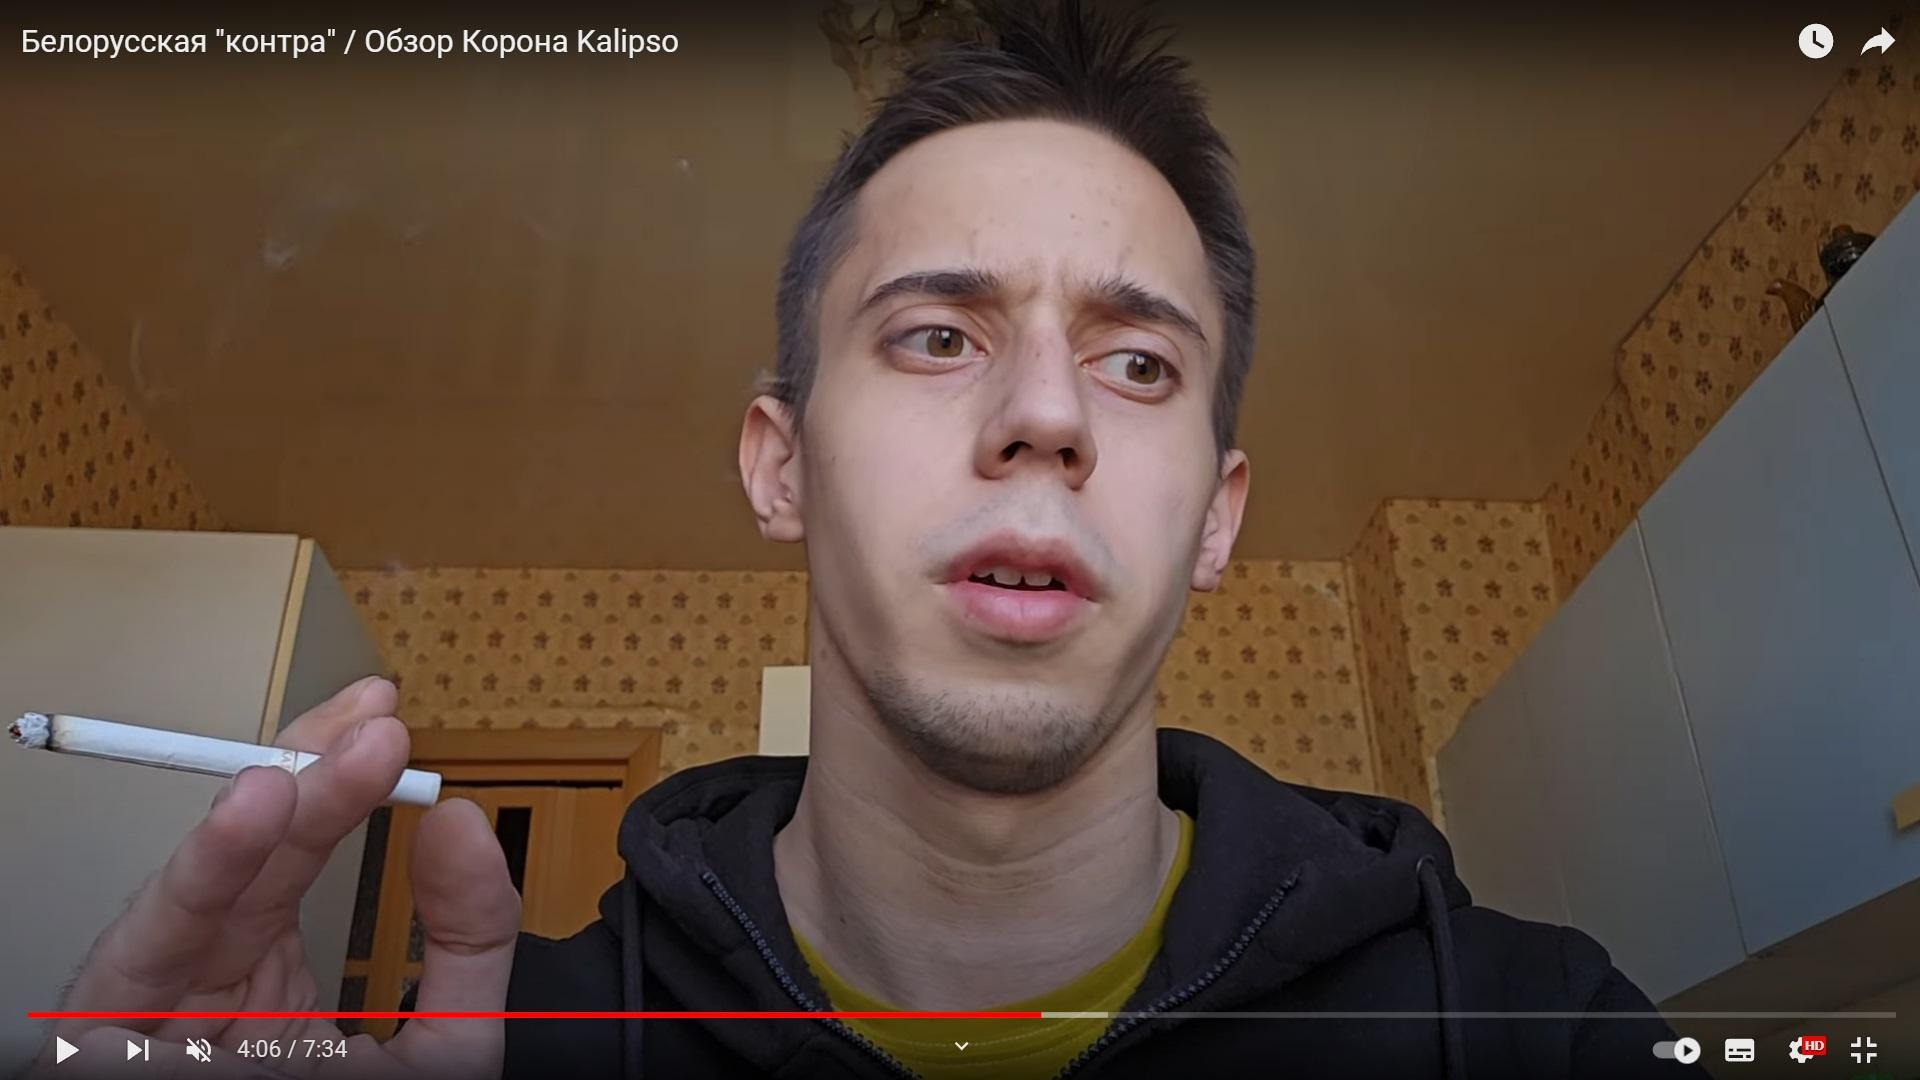cigarette: (7, 712, 443, 808)
